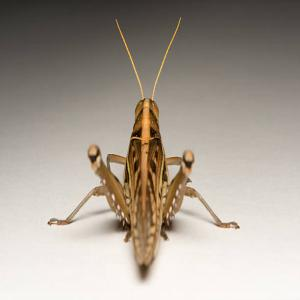locust: (102, 9, 206, 279)
